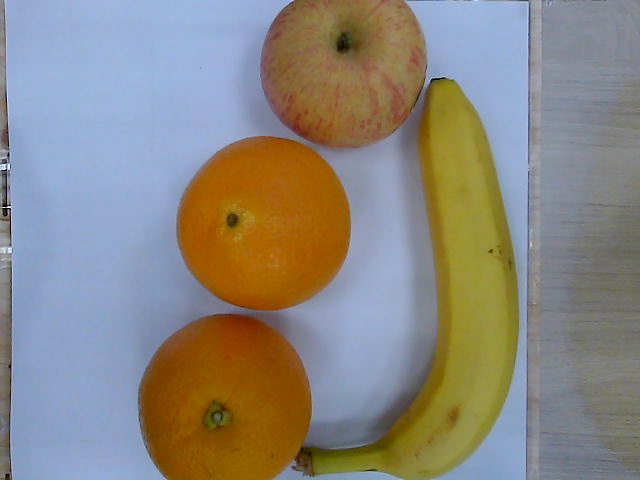fresh_apple: (260, 1, 428, 146)
fresh_banana: (303, 79, 520, 480)
fresh_orange: (178, 138, 352, 310), (138, 314, 312, 480)
